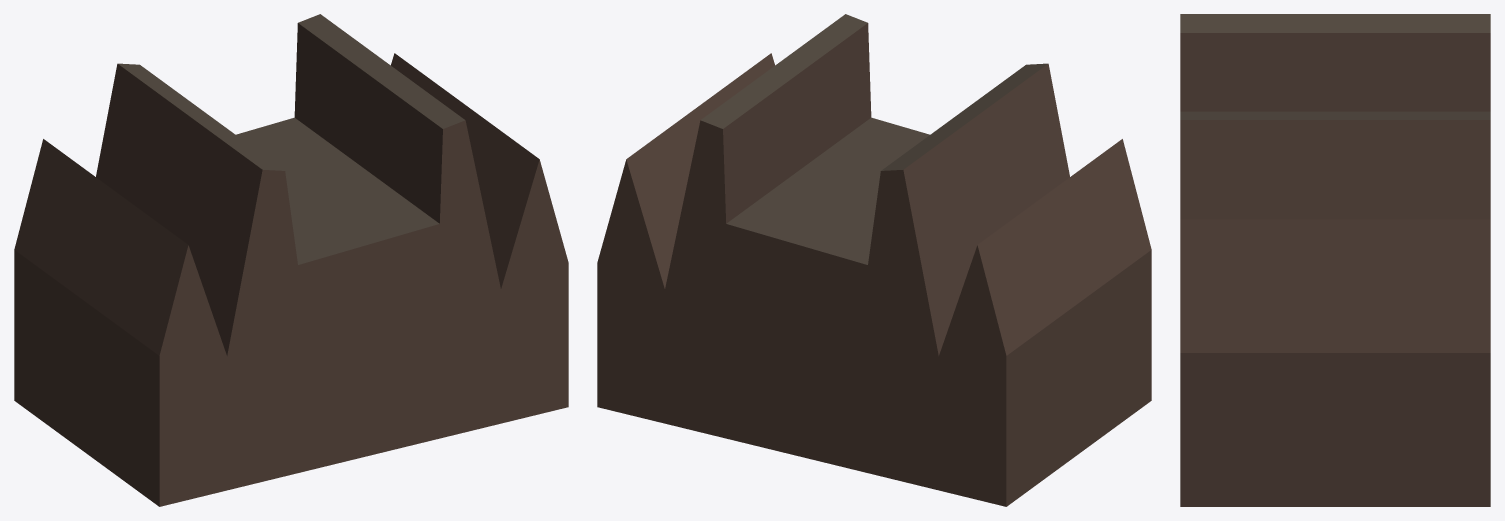
Rendered from bg_industrial_factory_3_lod2.glb.
3 renders of one model, left to right at view 1: azimuth 30°, elevation 25°; view 2: azimuth 150°, elevation 25°; view 3: azimuth 270°, elevation 25°, orthographic. The views are drawn at different scales.
Visible parts, largest first — view 1: body; view 2: body; view 3: body.
Part boxes in pixels (x1,y1,x2,y2): body: (14, 14, 568, 506); body: (597, 14, 1151, 506); body: (1180, 14, 1490, 506).
Bounding box in the file's own units: 12 × 8.74 × 7.38.
